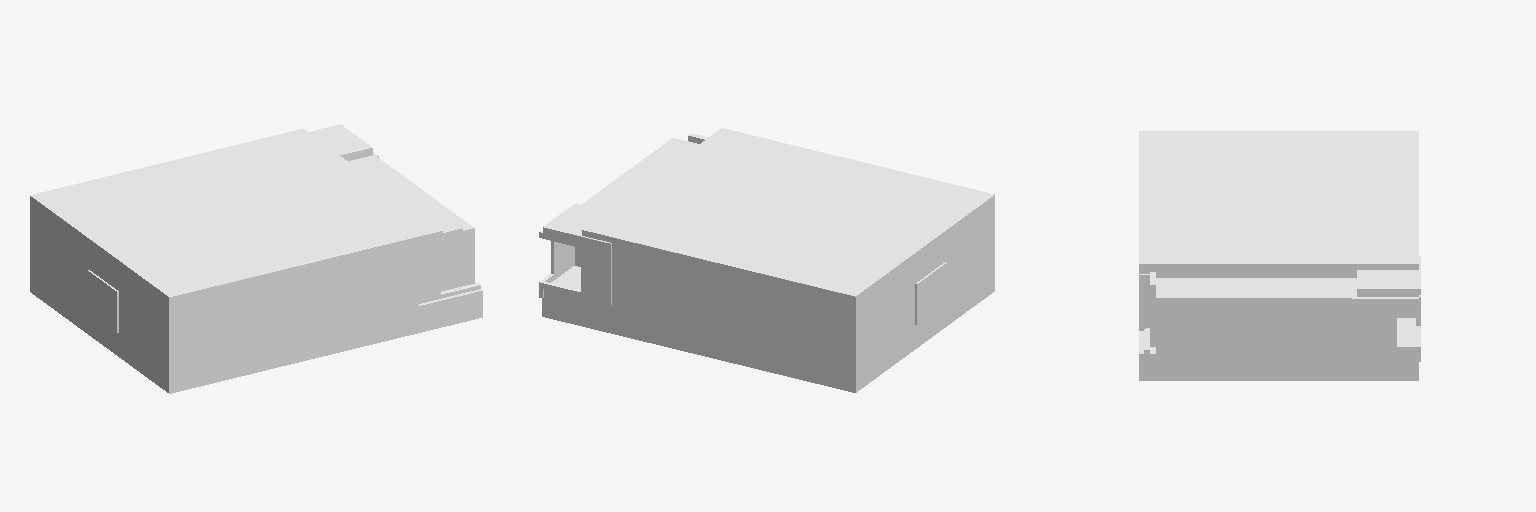
The model's file is Place3.obj.
3 views of the same model, side by side, from view 1: azimuth 30°, elevation 25°; view 2: azimuth 150°, elevation 25°; view 3: azimuth 270°, elevation 25° (orthographic).
Visible parts, largest first — view 1: object 1; view 2: object 1; view 3: object 1.
Boxes of the visible parts, <box> form: object 1: <box>30,124,482,393</box>; object 1: <box>539,128,994,392</box>; object 1: <box>1139,131,1420,380</box>.
Bounding box in the file's own units: 17.2 × 5 × 13.2.